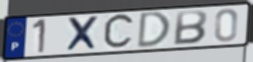0: (214, 7, 240, 43)
1: (31, 18, 47, 55)
B: (171, 9, 209, 46)
C: (101, 12, 137, 52)
D: (135, 10, 172, 50)
X: (65, 15, 101, 53)
